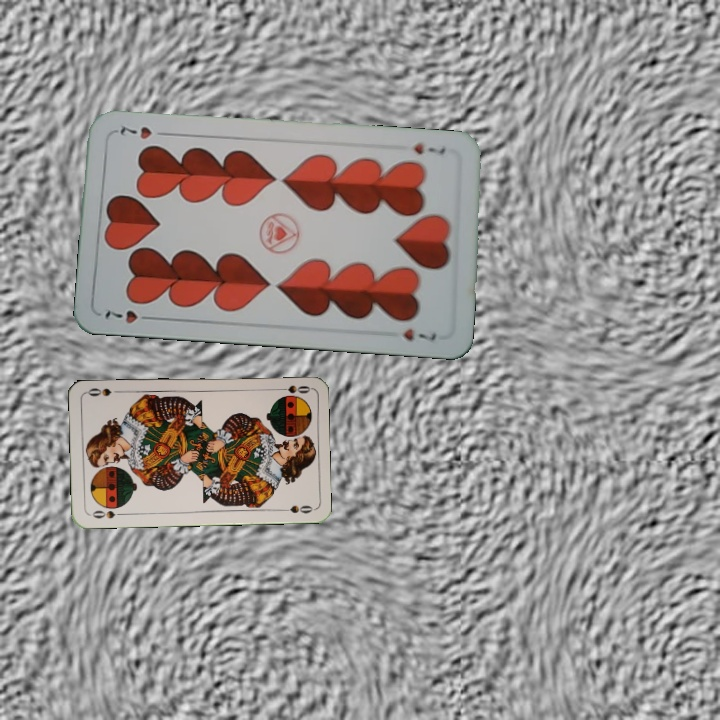H7: (101, 306, 157, 326), (410, 138, 448, 158)
SO: (272, 381, 312, 396), (89, 507, 126, 521)
